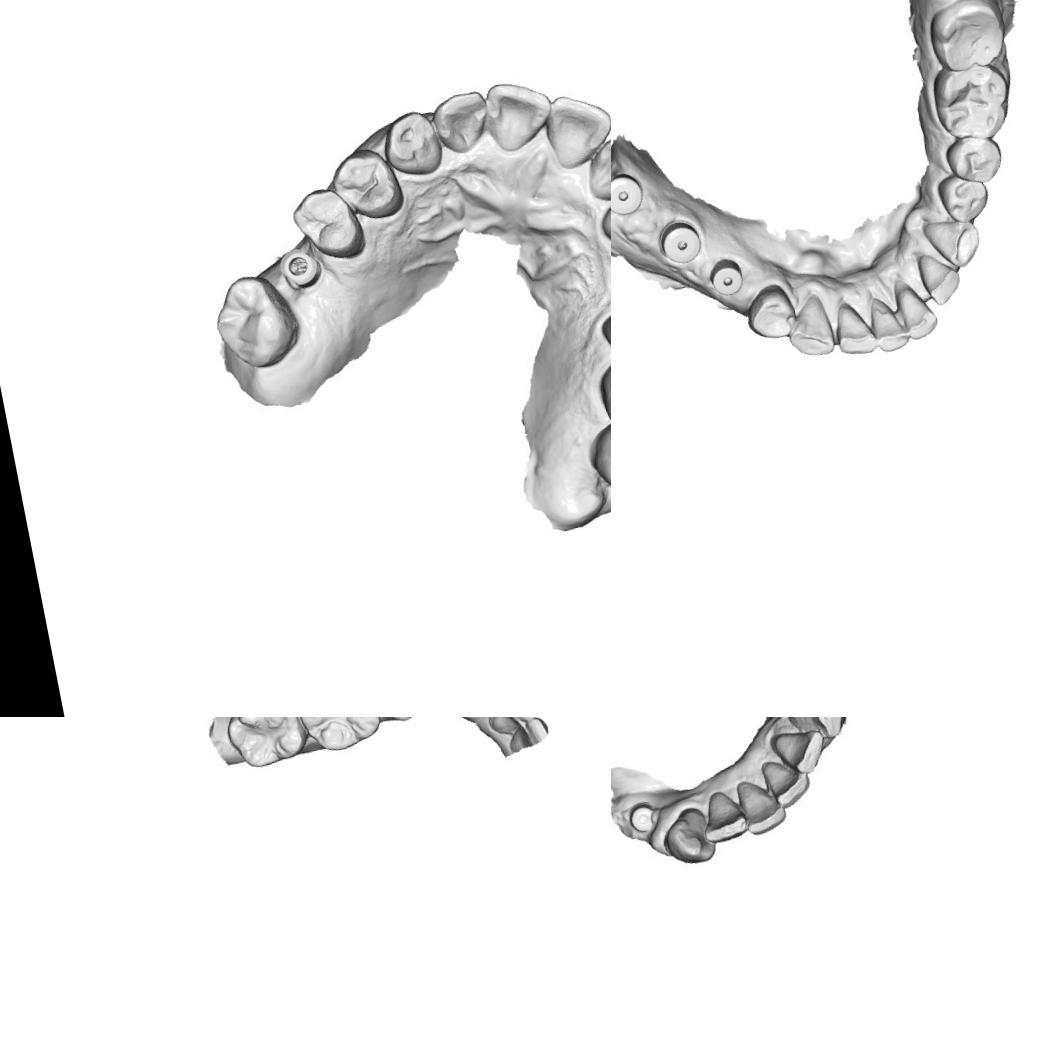canine: (380, 103, 446, 178), (778, 290, 839, 362), (921, 211, 986, 274), (657, 804, 718, 871), (787, 717, 847, 744), (593, 185, 611, 256)
implant: (656, 216, 706, 267), (274, 243, 324, 292), (704, 254, 748, 300), (611, 167, 646, 220)
incisor: (542, 87, 611, 167), (482, 76, 554, 147), (431, 88, 491, 153), (734, 775, 791, 838), (890, 274, 941, 342), (827, 296, 882, 359), (760, 752, 816, 812), (913, 248, 966, 308), (864, 291, 913, 355), (697, 788, 750, 844), (575, 129, 611, 206), (772, 727, 826, 776), (482, 717, 539, 736)
molar: (203, 264, 309, 380), (926, 52, 1017, 148), (922, 0, 1012, 77), (216, 717, 310, 773), (291, 717, 386, 757), (583, 411, 611, 499)
premolar: (290, 180, 369, 268), (327, 142, 404, 228), (738, 280, 800, 344), (942, 129, 1007, 190), (932, 166, 994, 228)
